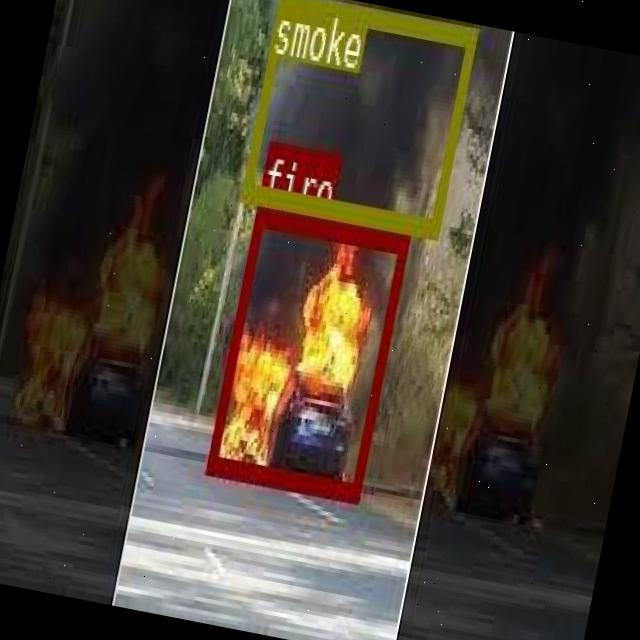fire: (205, 203, 409, 500)
smoke: (240, 0, 477, 235)
